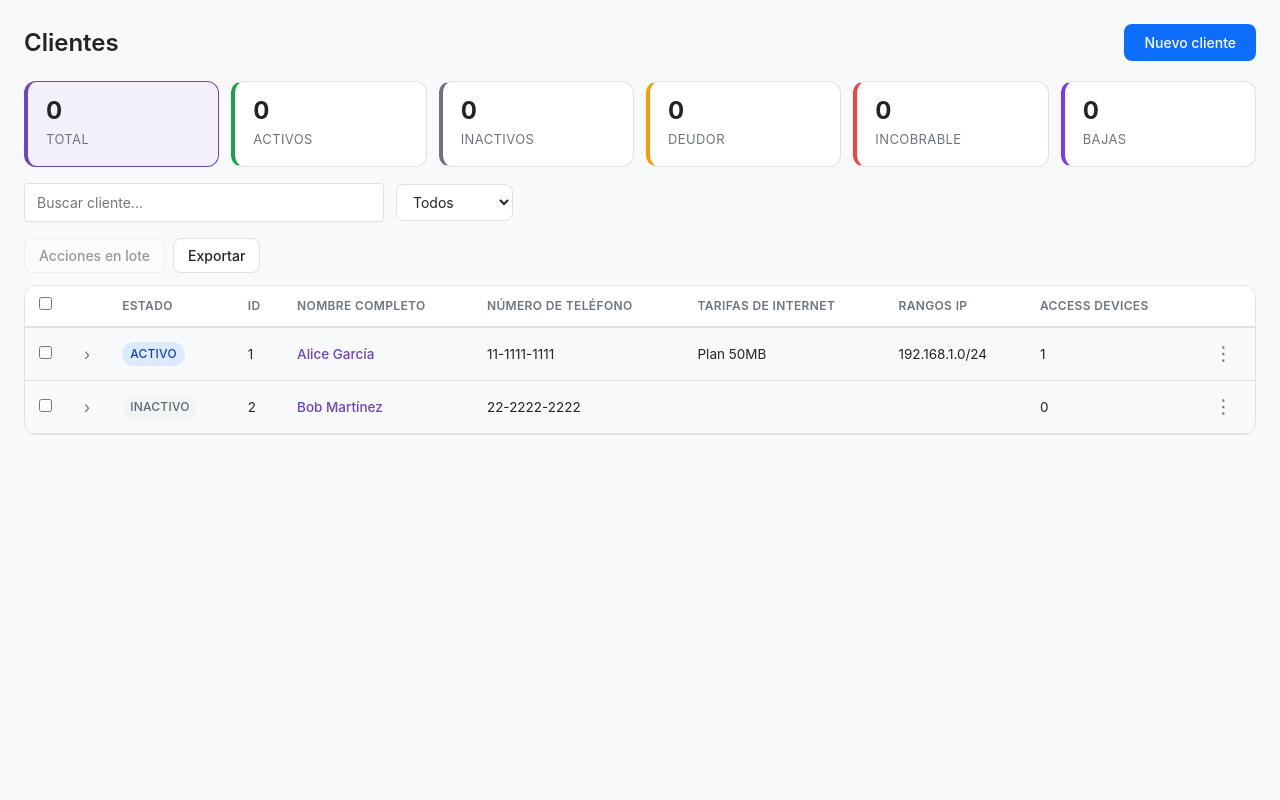
CustomersListPage – actionsDropdown portalizado (Deuda #5) › el dropdown se cierra al hacer click-outside
Click the checkbox named "Seleccionar todos" at {"x": 46, "y": 303}, box top-left (39, 297), bottom-right (52, 310)
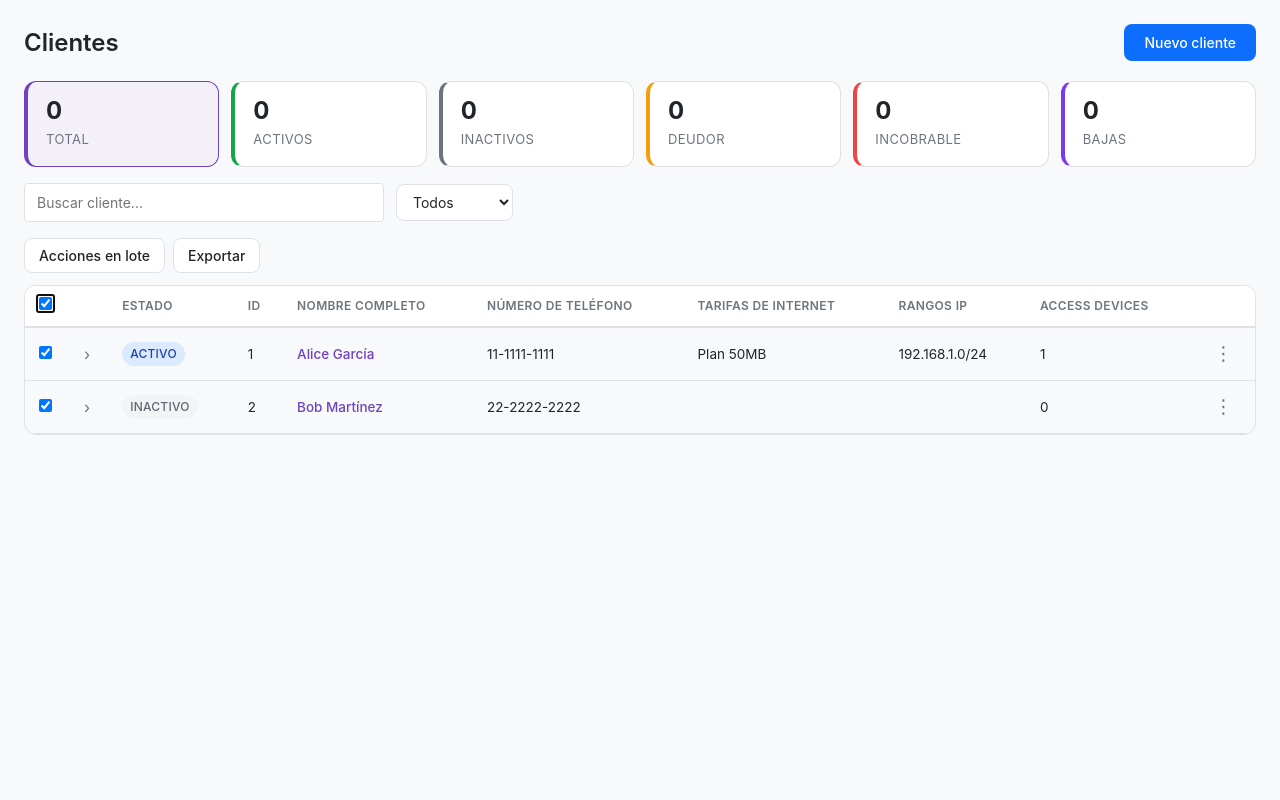
Click the button "Acciones en lote" at {"x": 95, "y": 255}, box top-left (24, 238), bottom-right (165, 273)
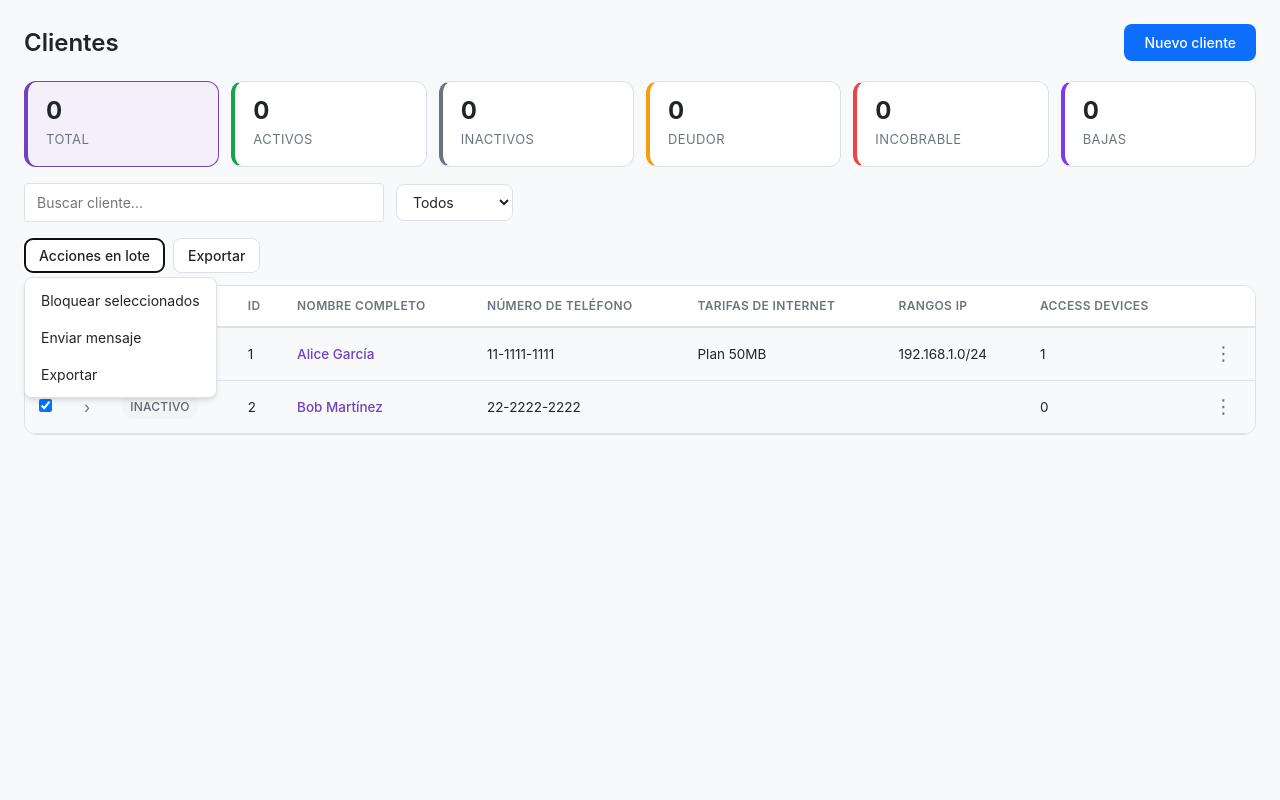
Now the list item "Bloquear seleccionados" is shown, box top-left (41, 292), bottom-right (200, 309)
// Click fuera
Click the element that starts with "Clientes" at {"x": 640, "y": 400}, box top-left (0, 0), bottom-right (1279, 799)
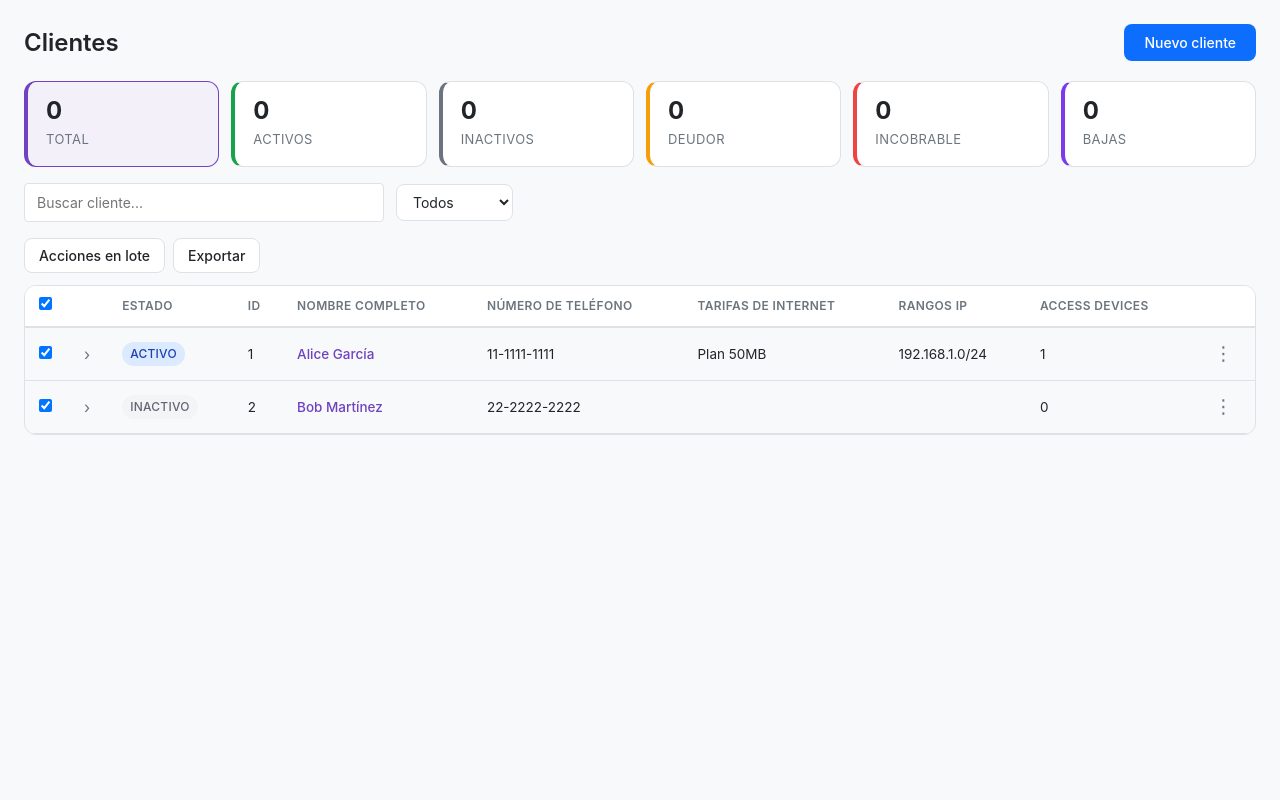
Now the list item "Bloquear seleccionados" is gone
